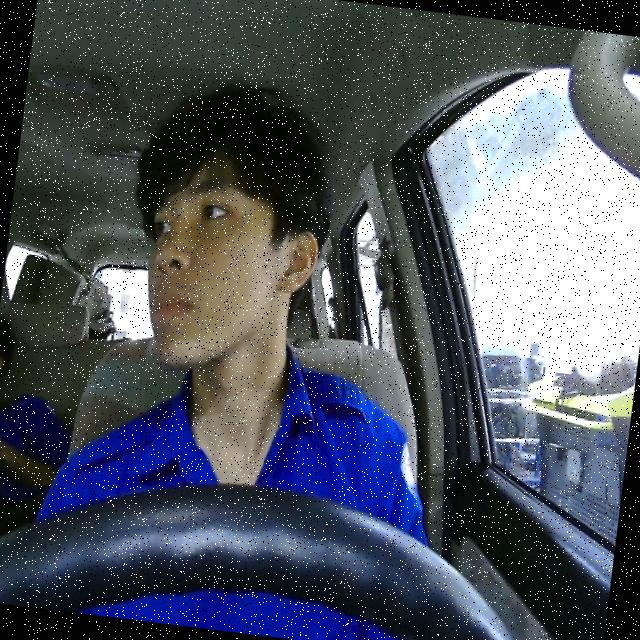seeing_left: (130, 136, 332, 386)
